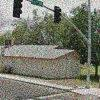traffic lights: (12, 0, 24, 20), (54, 4, 62, 24)
